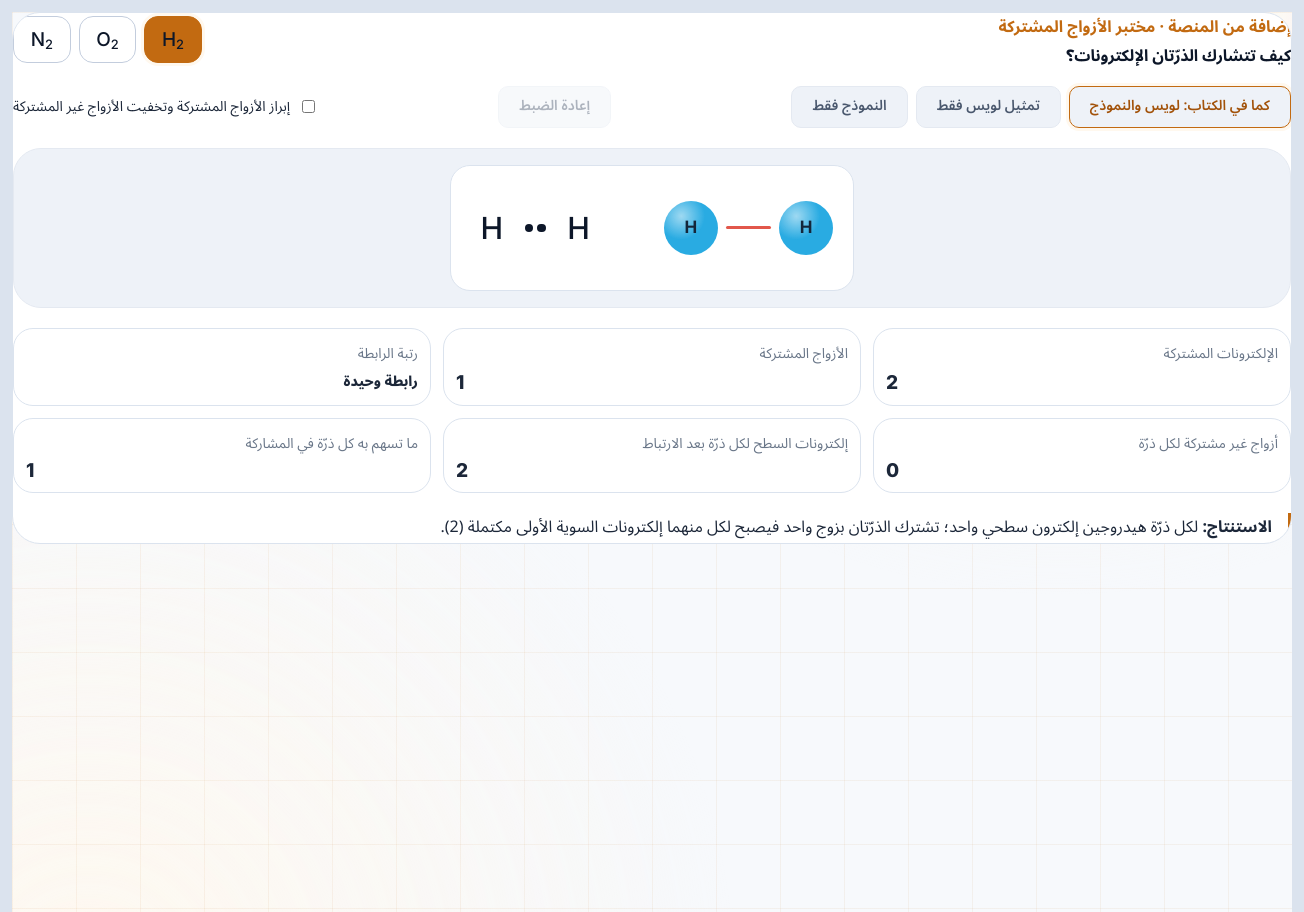
Test case: covalent bonding interactive › switches molecules and reports bond order, shared and lone pairs
Check: the text "رابطة وحيدة" is shown, box top-left (343, 367), bottom-right (418, 396)
Click the button "O2" at point(107, 39), box top-left (79, 16), bottom-right (136, 63)
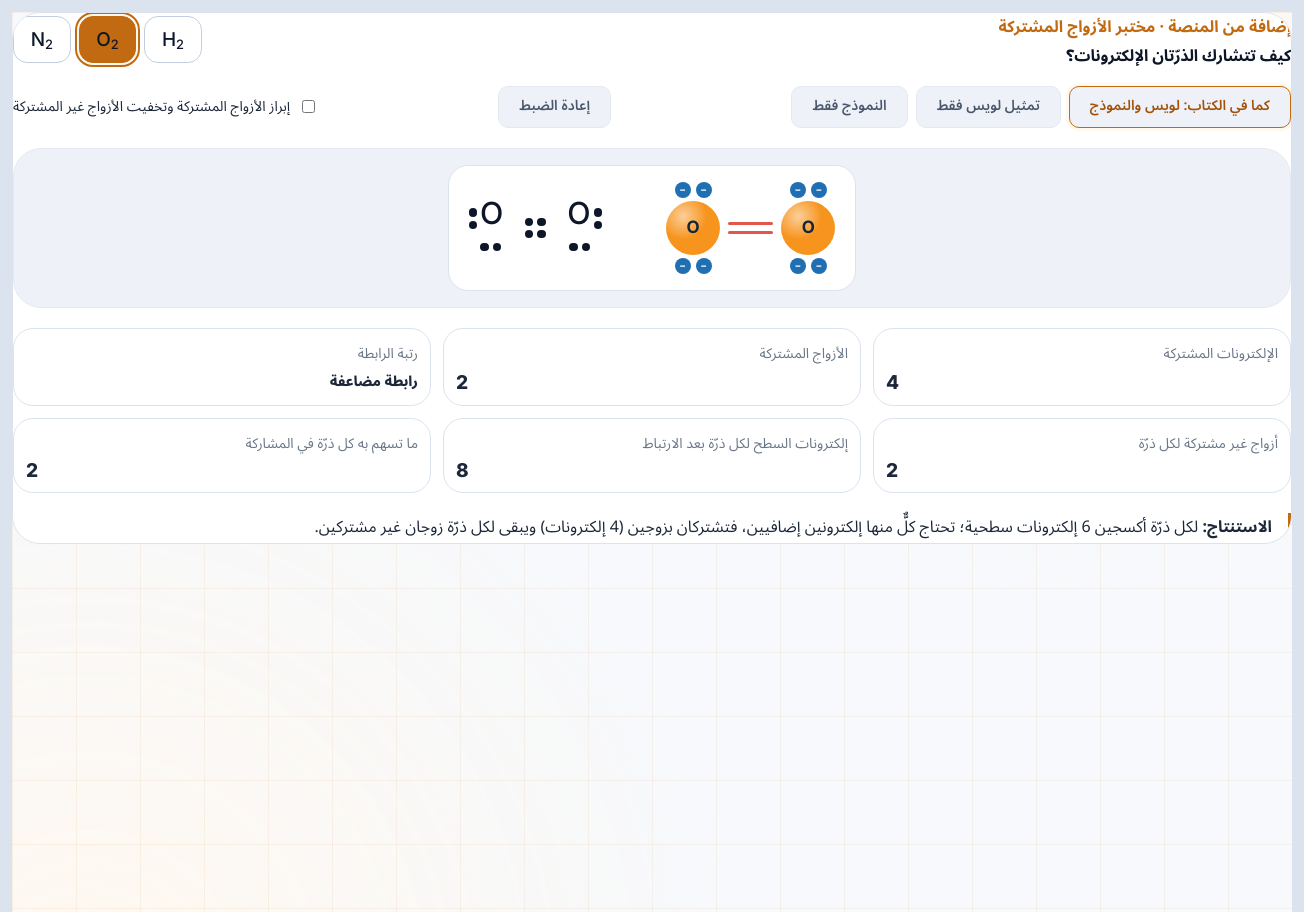
Check: the text "رابطة مضاعفة" is shown, box top-left (330, 367), bottom-right (418, 396)
Click the button "N2" at point(42, 39), box top-left (13, 16), bottom-right (71, 63)
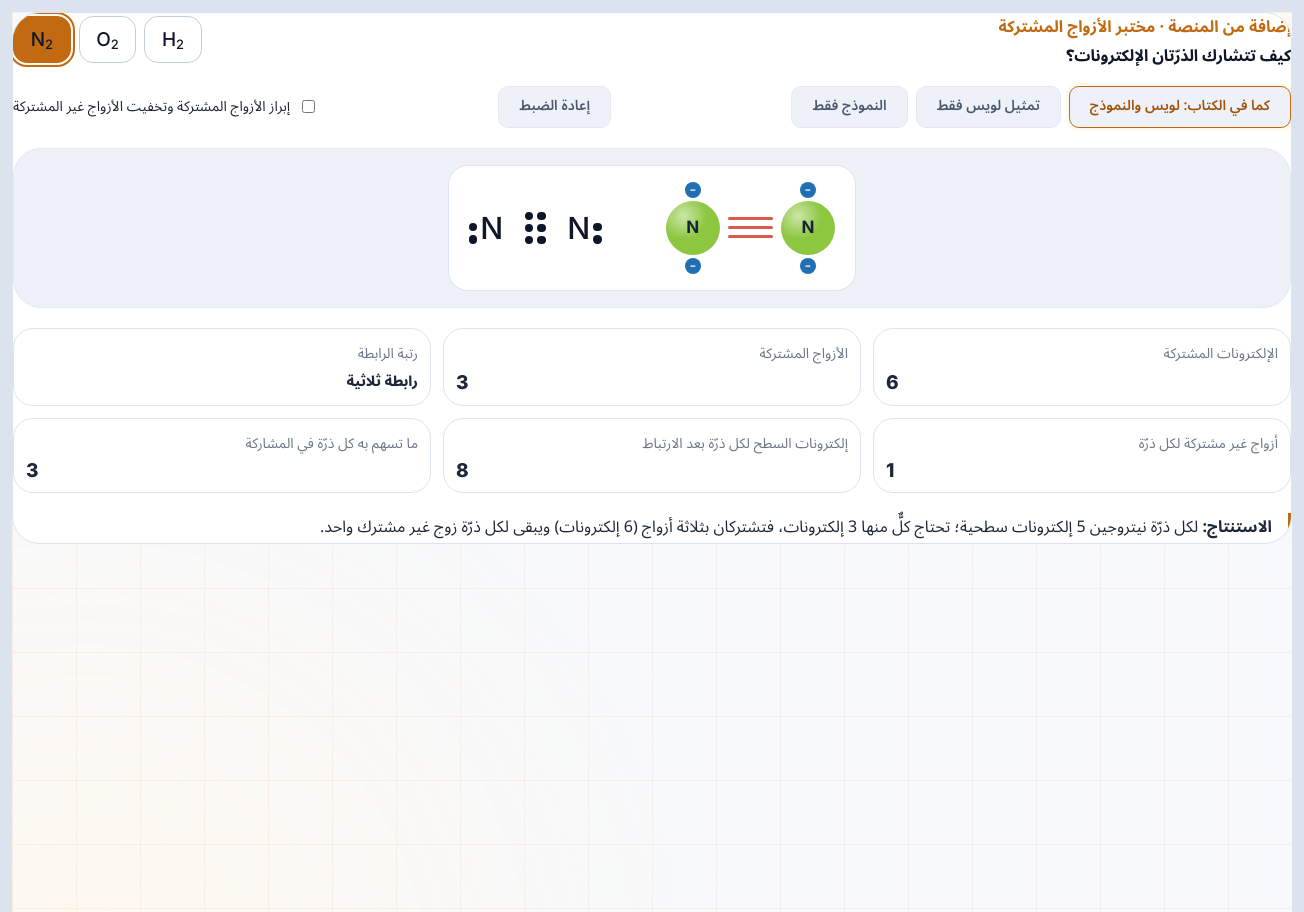
Check: the text "رابطة ثلاثية" is shown, box top-left (346, 367), bottom-right (418, 396)
